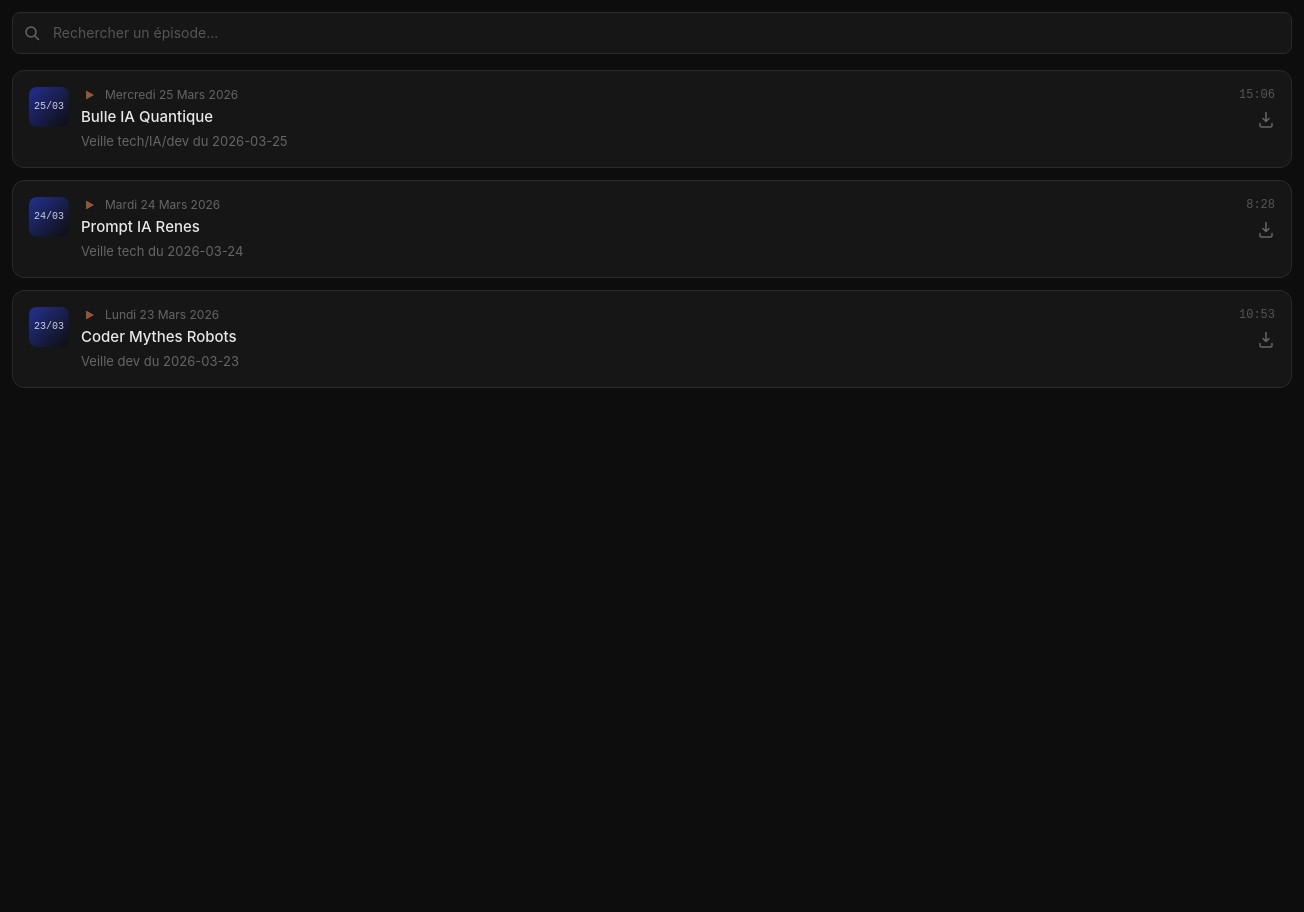
Test: EpisodeList › opens player on episode click
The image size is (1304, 912).
Click the button "Bulle IA Quantique": {"x": 49, "y": 107} [12,70,1292,168]
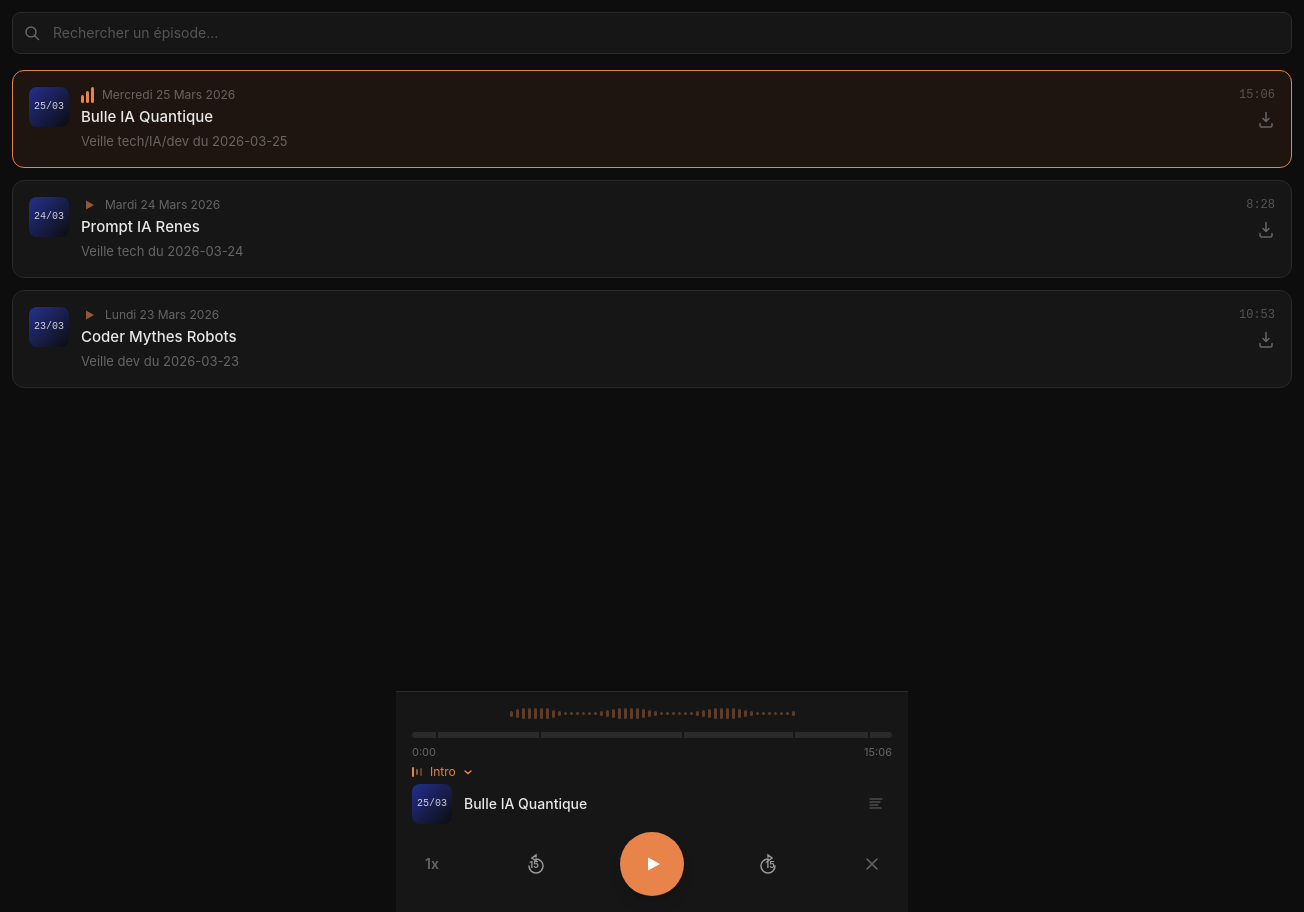
Expected: the button named "Fermer" is shown, [852,844,892,884]
